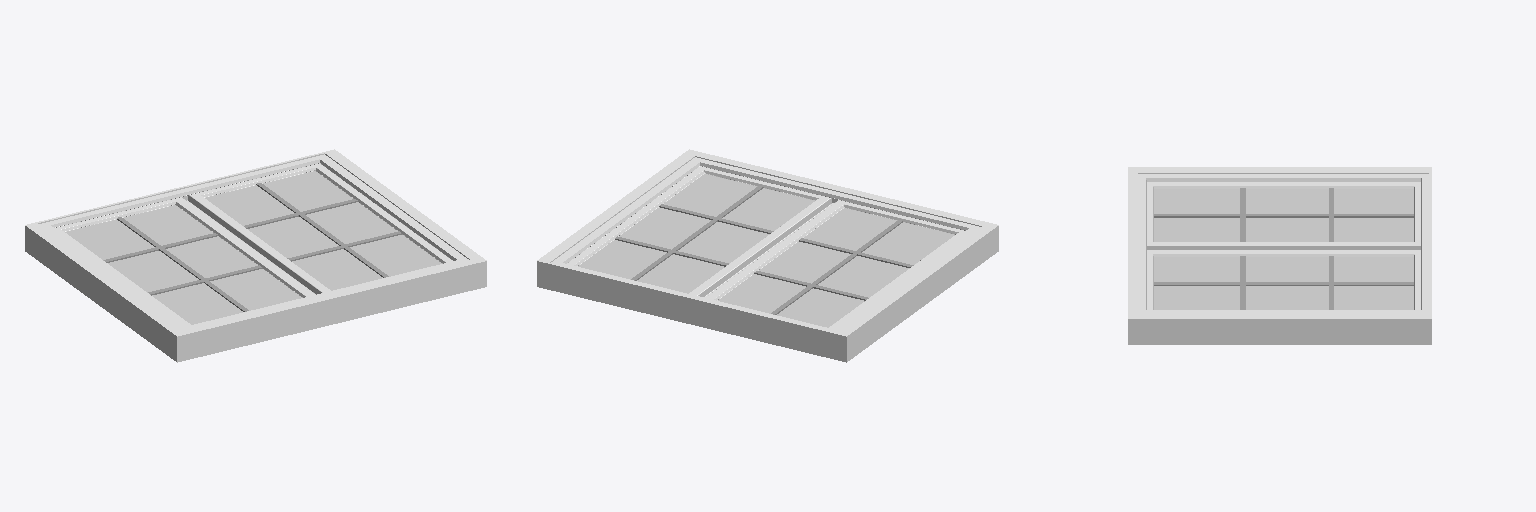
The picture shows the model from 3 angles: view 1: azimuth 30°, elevation 25°; view 2: azimuth 150°, elevation 25°; view 3: azimuth 270°, elevation 25°; orthographic projection.
Parts seen in each view (by area): view 1: Box13, ram_vrata11, ram_stakla23, ram_stakla22; view 2: Box13, ram_vrata11, ram_stakla23, ram_stakla22; view 3: Box13, ram_vrata11, ram_stakla22, ram_stakla23.
Boxes of the visible parts, box(x1,y1,x2,y2) form: Box13: box(25, 149, 486, 362); ram_vrata11: box(39, 154, 468, 329); ram_stakla23: box(187, 163, 452, 294); ram_stakla22: box(55, 197, 313, 325); Box13: box(537, 149, 998, 362); ram_vrata11: box(551, 157, 980, 332); ram_stakla23: box(567, 166, 833, 297); ram_stakla22: box(706, 200, 964, 328); Box13: box(1128, 167, 1431, 344); ram_vrata11: box(1138, 174, 1428, 312); ram_stakla22: box(1147, 182, 1420, 249); ram_stakla23: box(1147, 250, 1420, 309).
Size of the model in its own units: 48.05 by 3.88 by 40.92.